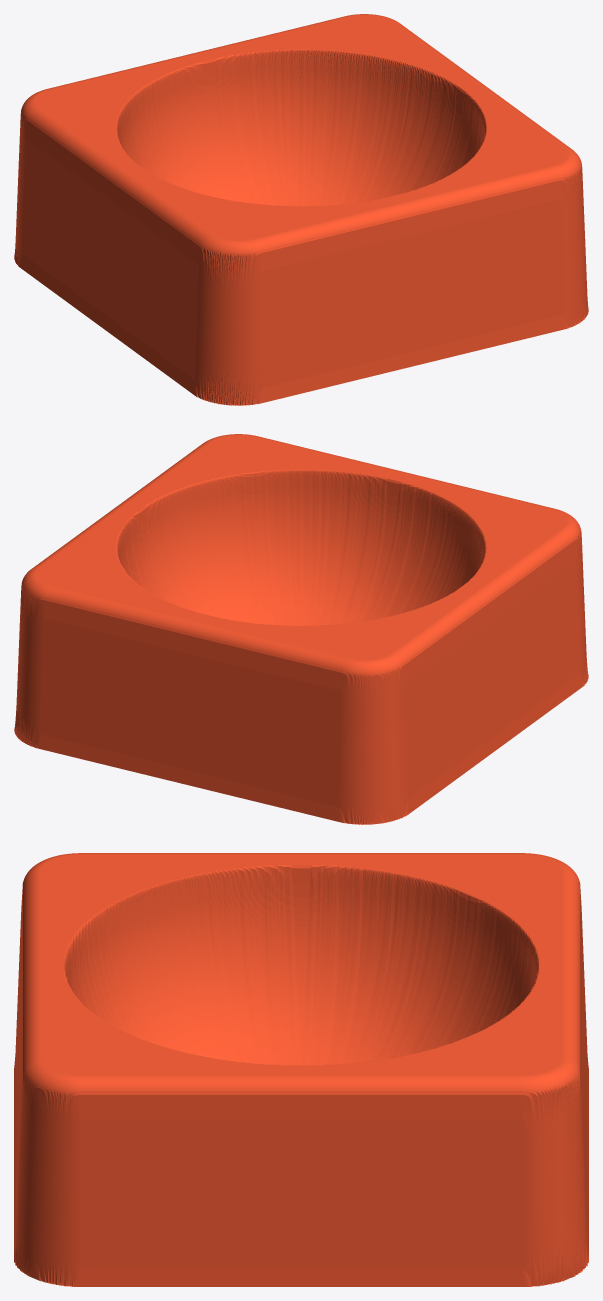
Rendered from mold.glb.
3 views of the same model, one above another, from view 1: azimuth 30°, elevation 25°; view 2: azimuth 150°, elevation 25°; view 3: azimuth 270°, elevation 25° (orthographic). The views are drawn at different scales.
Parts seen in each view (by area): view 1: geometry_0; view 2: geometry_0; view 3: geometry_0.
Part boxes in pixels (left/top/right/bottom): geometry_0: left=14, top=14, right=588, bottom=405; geometry_0: left=14, top=434, right=588, bottom=824; geometry_0: left=14, top=853, right=588, bottom=1286.
Size of the model in its own units: 0.0778 by 0.0299 by 0.0778.
